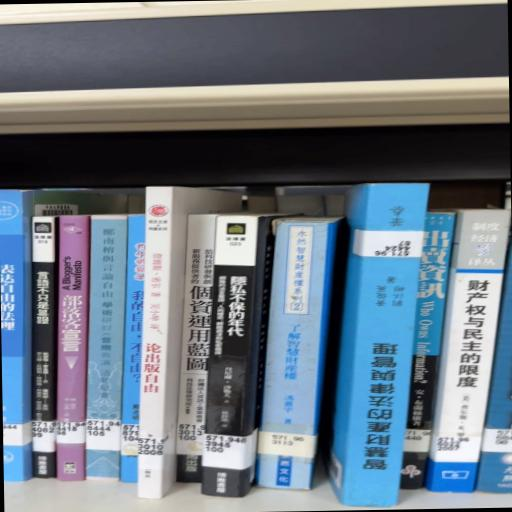reverse: (327, 185, 430, 508)
